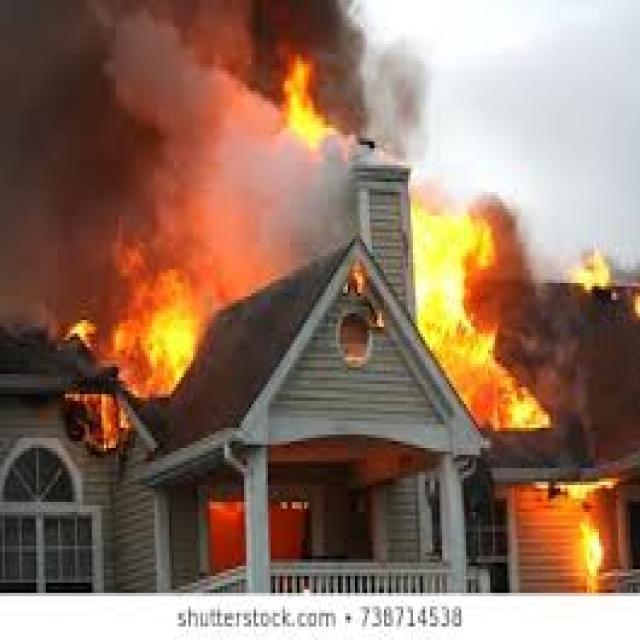Fire: (412, 202, 549, 426), (116, 245, 205, 393), (282, 58, 330, 139), (578, 518, 606, 578)
Smoke: (0, 0, 275, 246), (336, 0, 430, 154), (275, 124, 350, 250)
